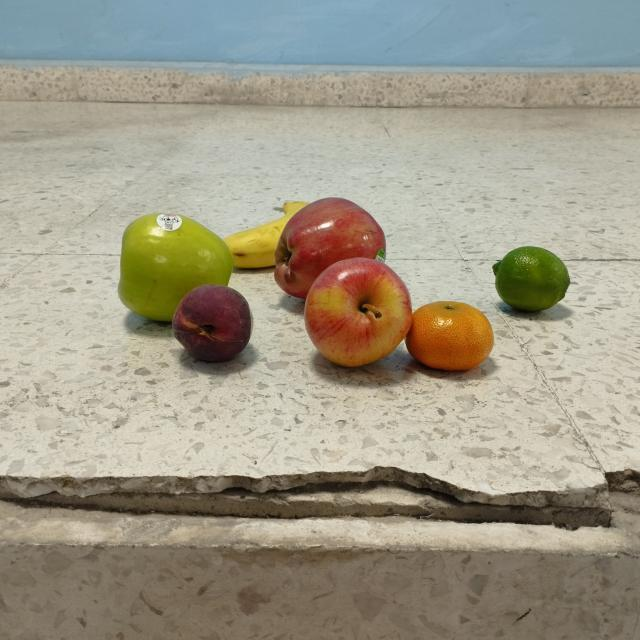Apel Gala: (303, 252, 418, 382)
Apel Granny Smith: (112, 204, 242, 328)
Apel Merah: (268, 175, 394, 308)
Jeruk Mandarin: (408, 290, 508, 384)
Lemon: (486, 232, 578, 325)
Persik: (168, 279, 266, 369)
Pisang: (187, 186, 336, 273)
